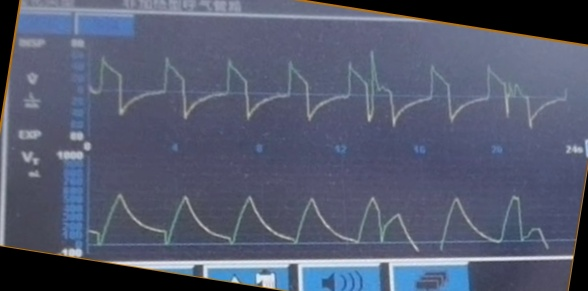Double_Triggering Flow: (96, 47, 562, 131)
Double_Triggering Volume: (90, 192, 548, 254)
